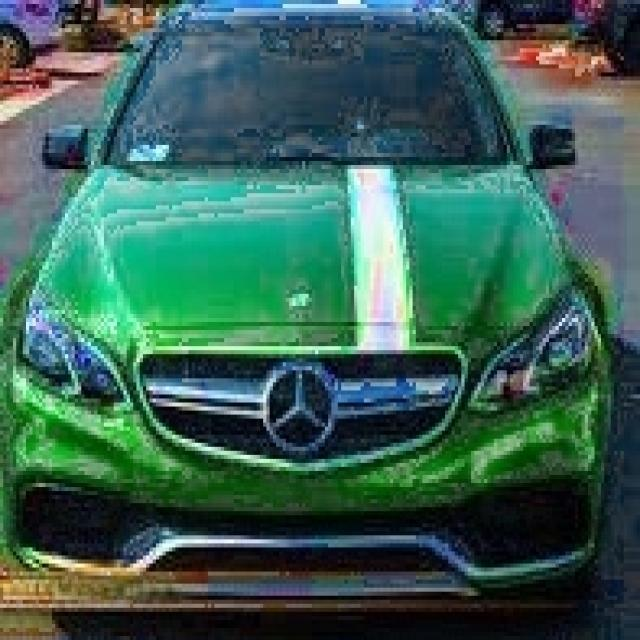green: (3, 6, 640, 594)
